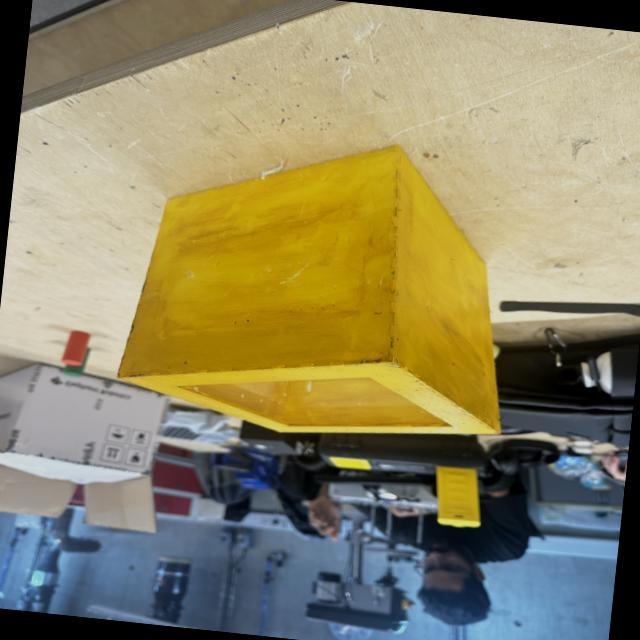yellow_bin: (113, 115, 532, 458)
